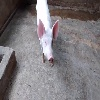heo: (34, 17, 63, 65)
